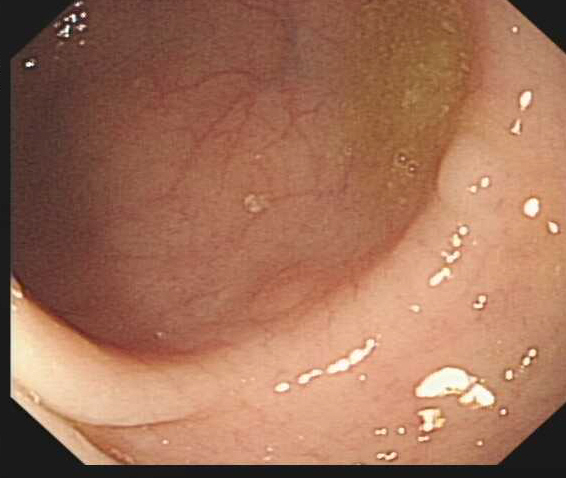others: (432, 131, 506, 217)
